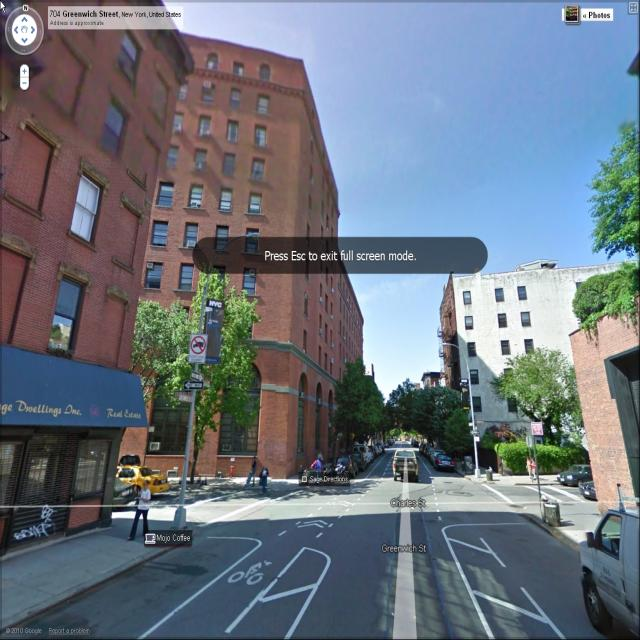b_1: (8, 1, 152, 508), (251, 59, 358, 495), (447, 246, 587, 464)
b_2: (125, 49, 342, 496)
